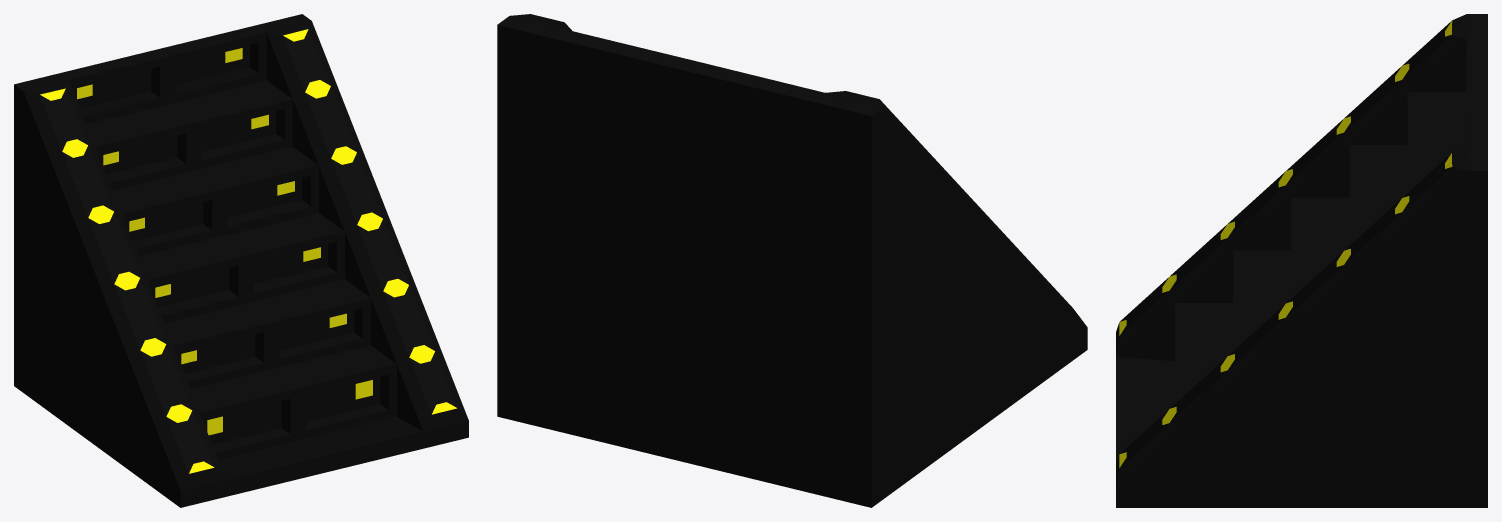
File: stair1x1.fbx
The picture shows the model from 3 angles, left to right: view 1: azimuth 30°, elevation 25°; view 2: azimuth 150°, elevation 25°; view 3: azimuth 270°, elevation 25°; orthographic projection. The views are drawn at different scales.
Parts seen in each view (by area): view 1: Stair1x1; view 2: Stair1x1; view 3: Stair1x1.
Boxes of the visible parts, x1,y1,x2,y2 form: Stair1x1: [14, 14, 468, 507]; Stair1x1: [497, 14, 1087, 507]; Stair1x1: [1116, 14, 1487, 507].
Size of the model in its own units: 1 by 1 by 1.
